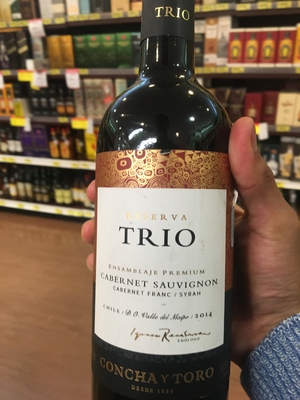trio cabernet sauvignon: (87, 20, 259, 400)
